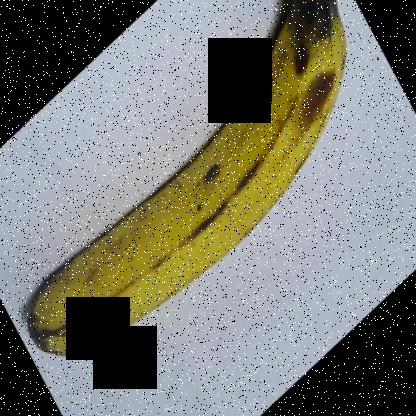ripe: (18, 0, 369, 367)
